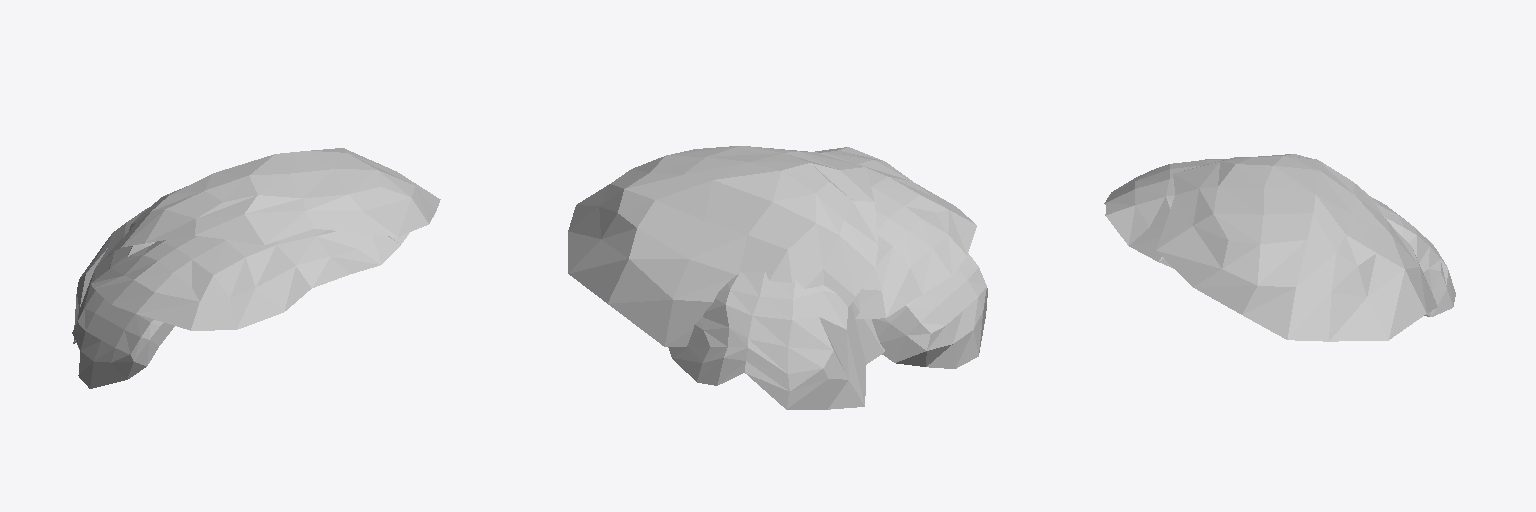
File: Tree Top Large.obj
3 views of the same model, side by side, from view 1: azimuth 30°, elevation 25°; view 2: azimuth 150°, elevation 25°; view 3: azimuth 270°, elevation 25° (orthographic).
Visible parts, largest first — view 1: pCube1, pCube2, pCube3, pCube5; view 2: pCube1, pCube5, pCube2, pCube3; view 3: pCube1, pCube2, pCube5.
Part boxes in pixels (left/top/right/bottom): pCube1: left=108, top=148, right=440, bottom=256; pCube2: left=91, top=229, right=409, bottom=330; pCube3: left=72, top=291, right=174, bottom=388; pCube5: left=73, top=208, right=154, bottom=343; pCube1: left=568, top=146, right=877, bottom=346; pCube5: left=668, top=271, right=884, bottom=409; pCube2: left=815, top=147, right=976, bottom=318; pCube3: left=872, top=253, right=987, bottom=368; pCube1: left=1156, top=154, right=1437, bottom=341; pCube2: left=1104, top=159, right=1225, bottom=268; pCube5: left=1373, top=198, right=1455, bottom=316.
Size of the model in its own units: 3280 by 1421 by 2656.